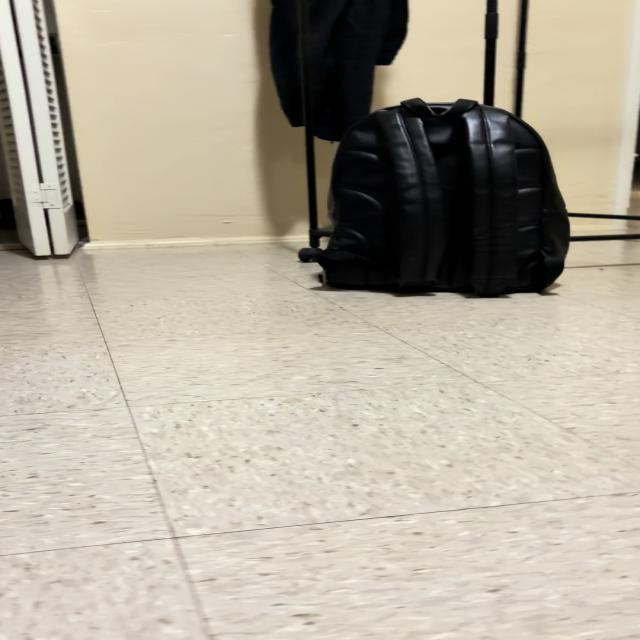backpack: (318, 99, 569, 296)
